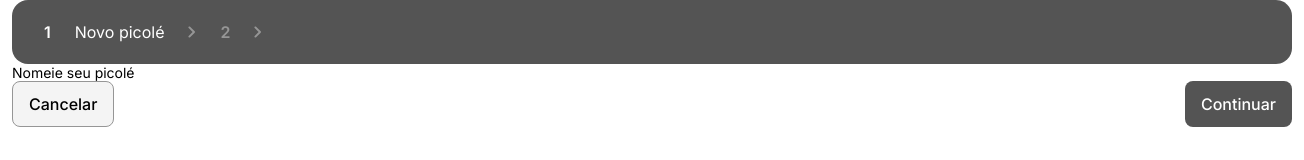
<Wizard /> › should handle page change by continue button
Expected: the text "Nomeie seu picolé" is shown, [12,64,134,81]
Click the button "Continuar": click(1238, 104) [1185,81,1292,127]
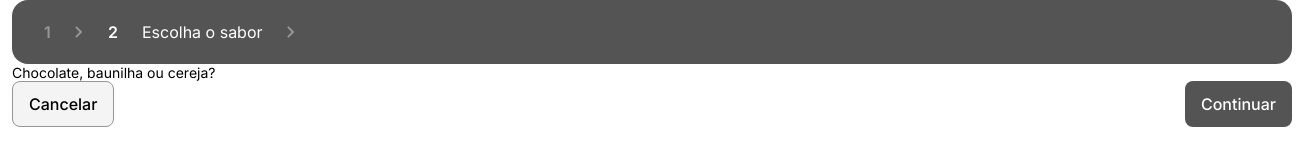
Expected: the text "Chocolate, baunilha ou cereja?" is shown, [12,64,216,81]
